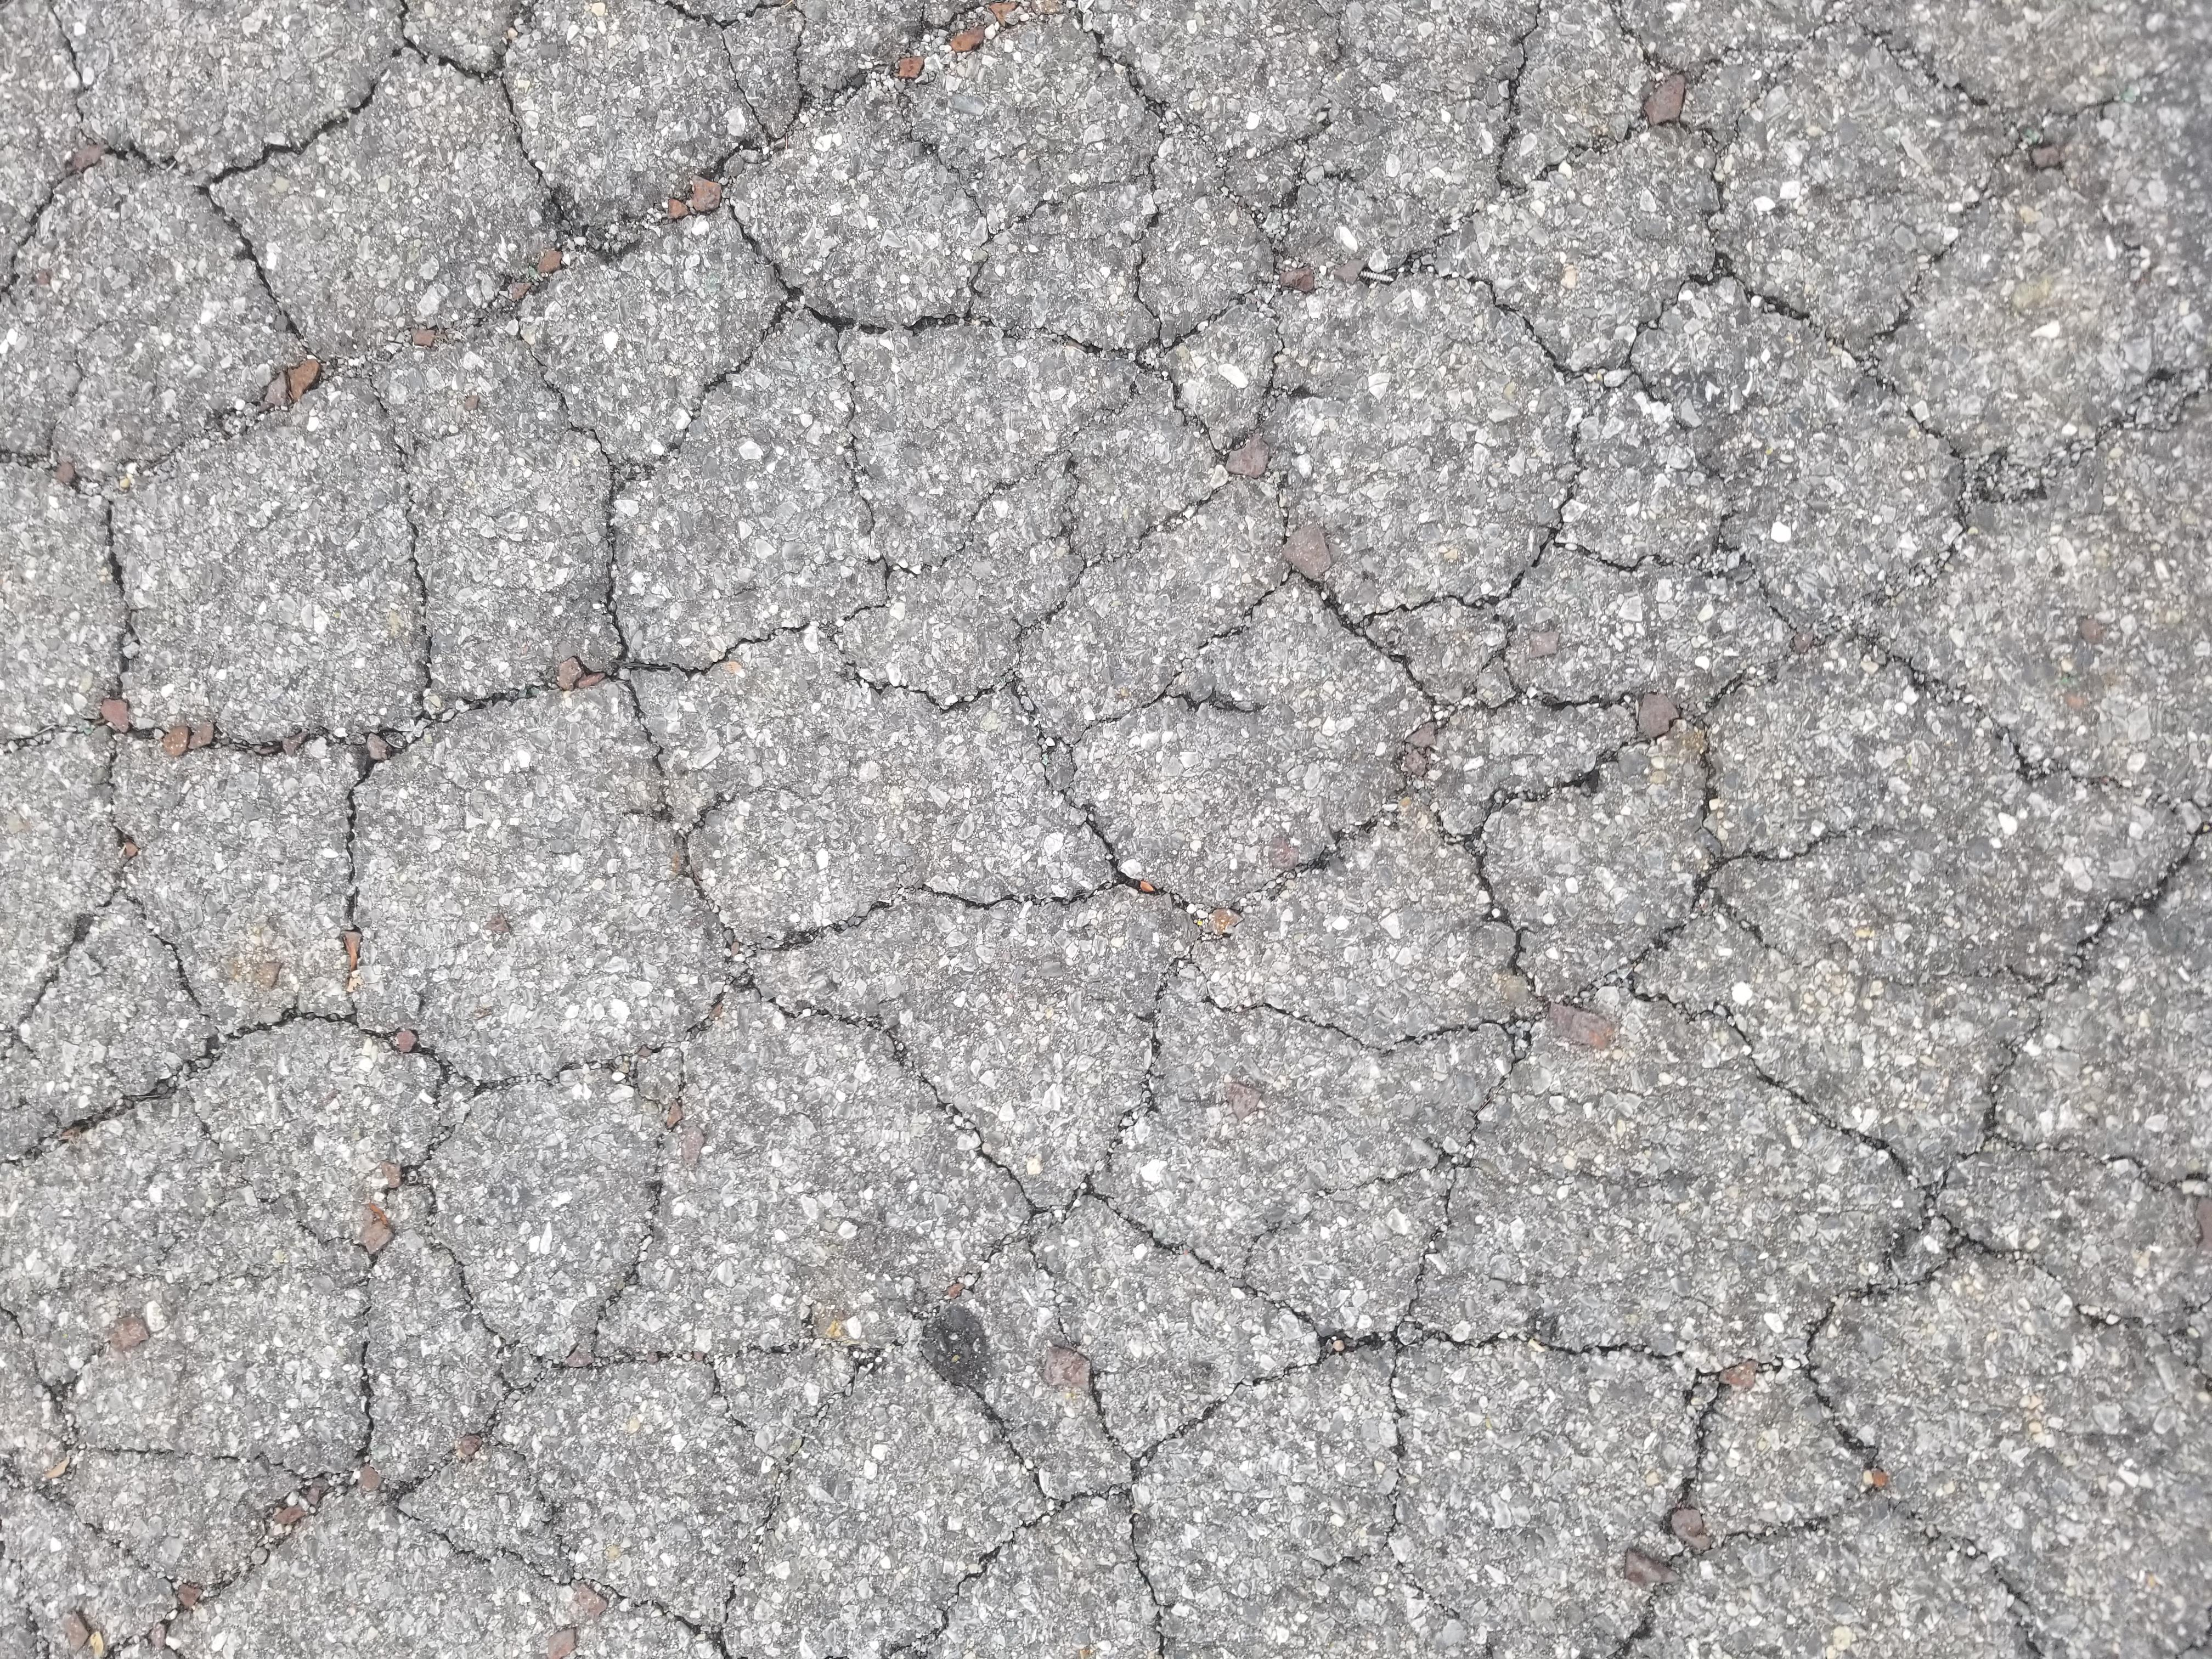alligator-crack: (9, 0, 2212, 1659)
